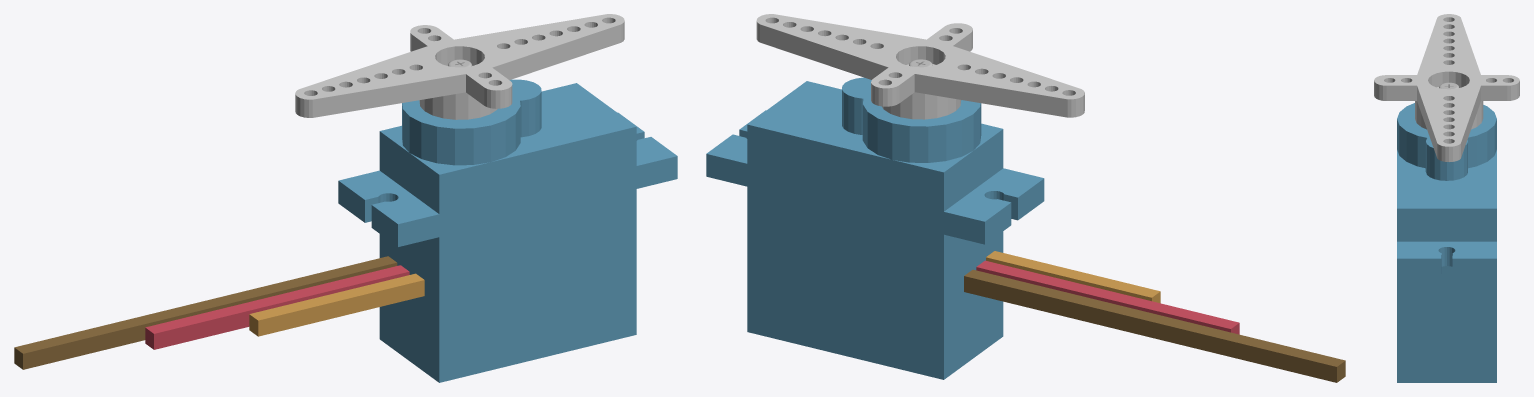
The model's file is servo model.glb.
The picture shows the model from 3 angles, left to right: view 1: azimuth 30°, elevation 25°; view 2: azimuth 150°, elevation 25°; view 3: azimuth 270°, elevation 25°; orthographic projection. The views are drawn at different scales.
Visible parts, largest first — view 1: Mesh_Mesh_head_geo.001_lambert2SG.001; view 2: Mesh_Mesh_head_geo.001_lambert2SG.001; view 3: Mesh_Mesh_head_geo.001_lambert2SG.001.
Part boxes in pixels (x1,y1,x2,y2): Mesh_Mesh_head_geo.001_lambert2SG.001: [14, 14, 677, 382]; Mesh_Mesh_head_geo.001_lambert2SG.001: [706, 14, 1345, 382]; Mesh_Mesh_head_geo.001_lambert2SG.001: [1374, 14, 1519, 382].
Bounding box in the file's own units: 70.54 × 31.7 × 17.22.
